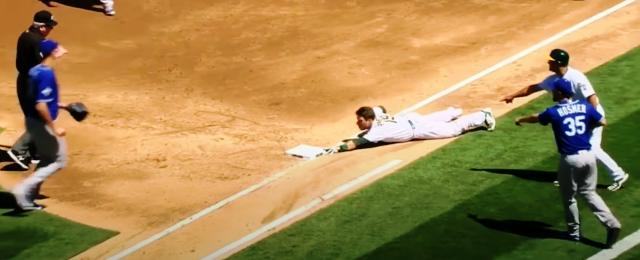jatuh: (319, 98, 501, 156)
